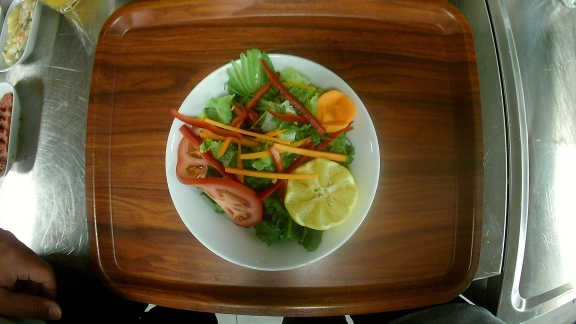salata: (166, 51, 382, 271)
